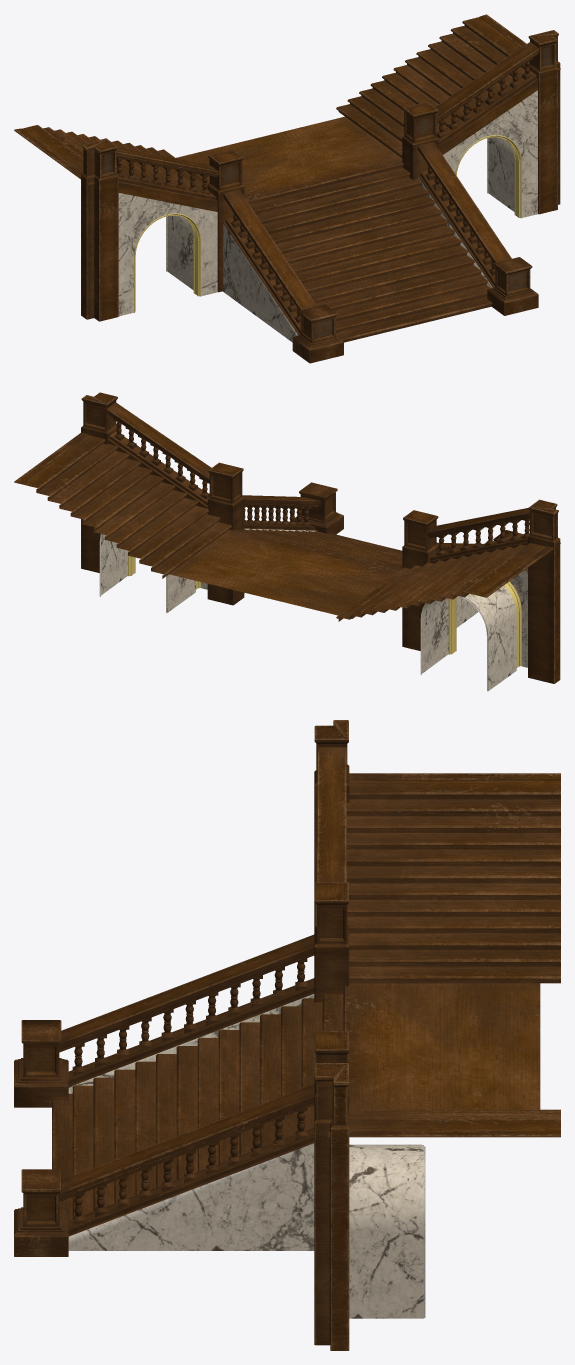
Rendered from wooden_stairs_21.glb.
The picture shows the model from 3 angles, top to bottom: view 1: azimuth 30°, elevation 25°; view 2: azimuth 150°, elevation 25°; view 3: azimuth 270°, elevation 25°; orthographic projection. The views are drawn at different scales.
Parts seen in each view (by area): view 1: Base; view 2: Base; view 3: Base.
Boxes of the visible parts, x1,y1,x2,y2 form: Base: [14, 14, 560, 363]; Base: [14, 392, 560, 691]; Base: [14, 720, 560, 1350].
Bounding box in the file's own units: 3.4 × 1.17 × 2.16.
Materials: 4 (4 with a texture image).
